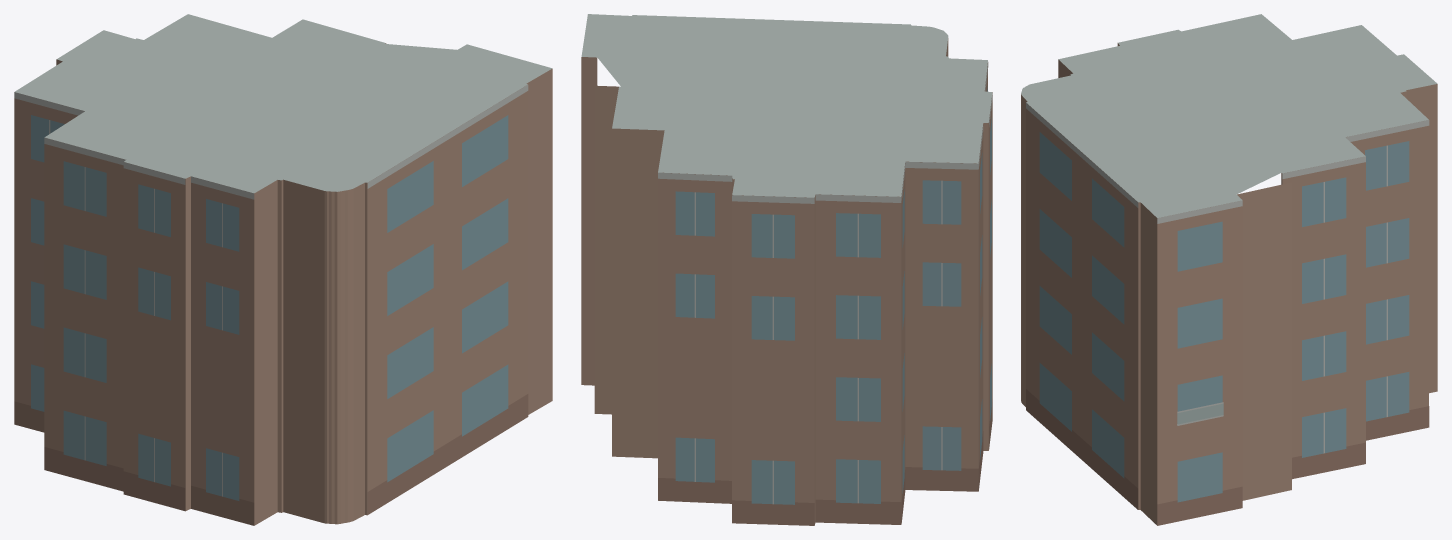
File: survey-upis-32668076.glb
3 renders of one model, left to right at view 1: azimuth 30°, elevation 25°; view 2: azimuth 150°, elevation 25°; view 3: azimuth 270°, elevation 25°, orthographic. The views are drawn at different scales.
Visible parts, largest first — view 1: survey-upis-32668076.tmp; view 2: survey-upis-32668076.tmp; view 3: survey-upis-32668076.tmp.
Boxes of the visible parts, left/top/right/bottom form: survey-upis-32668076.tmp: left=14, top=14, right=552, bottom=525; survey-upis-32668076.tmp: left=581, top=14, right=992, bottom=525; survey-upis-32668076.tmp: left=1021, top=14, right=1437, bottom=525.
Size of the model in its own units: 18.3 by 12.85 by 15.77.
